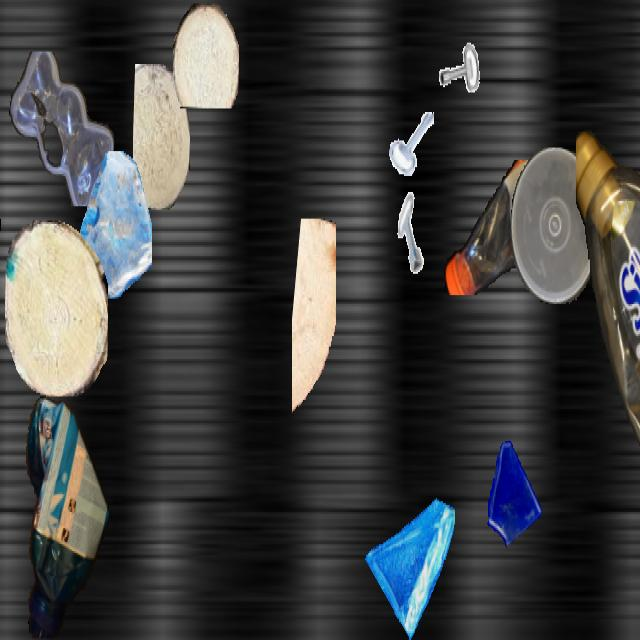glass: (364, 478, 454, 638), (69, 151, 151, 297), (482, 436, 544, 546)
metal: (427, 4, 483, 103), (390, 192, 436, 274), (389, 105, 433, 183)
plastic: (576, 117, 640, 491), (20, 393, 108, 638), (442, 160, 588, 295), (9, 52, 115, 205), (511, 148, 599, 304), (0, 197, 1, 439)
wood: (5, 220, 107, 394), (292, 219, 336, 425), (133, 64, 189, 210), (173, 3, 239, 106)
